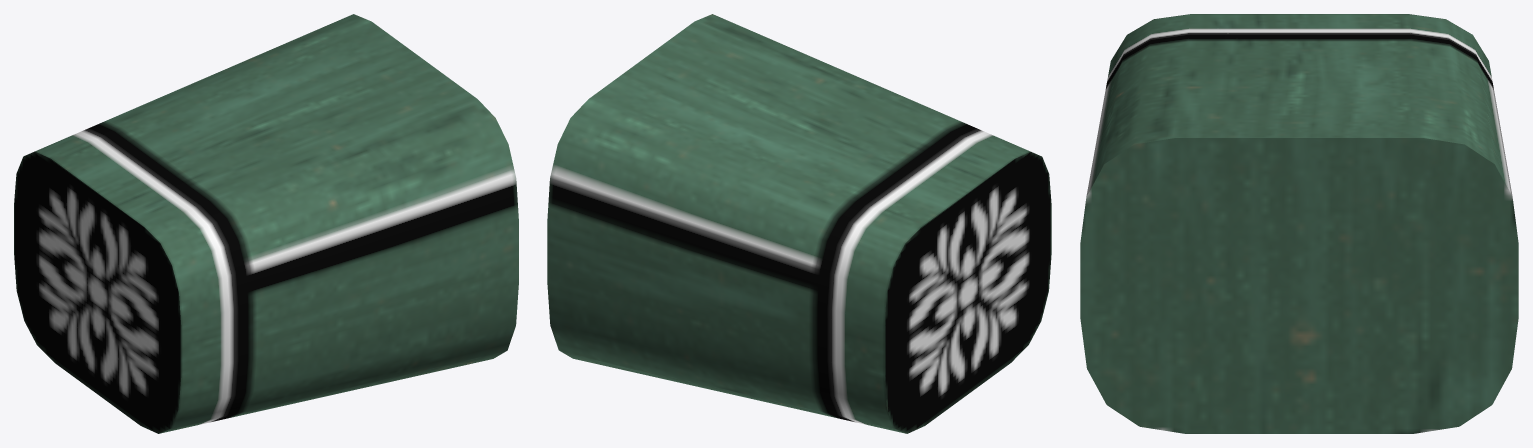
The model's file is SM_CGJ_Purlin08d.fbx.
The picture shows the model from 3 angles, left to right: view 1: azimuth 30°, elevation 25°; view 2: azimuth 150°, elevation 25°; view 3: azimuth 270°, elevation 25°; orthographic projection. The views are drawn at different scales.
Visible parts, largest first — view 1: SM_CGJ_Purlin08d; view 2: SM_CGJ_Purlin08d; view 3: SM_CGJ_Purlin08d.
Part boxes in pixels (box(x1,y1,x2,y2)): SM_CGJ_Purlin08d: box(14, 14, 518, 433); SM_CGJ_Purlin08d: box(547, 14, 1051, 433); SM_CGJ_Purlin08d: box(1080, 14, 1518, 433).
Bounding box in the file's own units: 35 × 34.93 × 26.04.
1 material, 1 textured.
